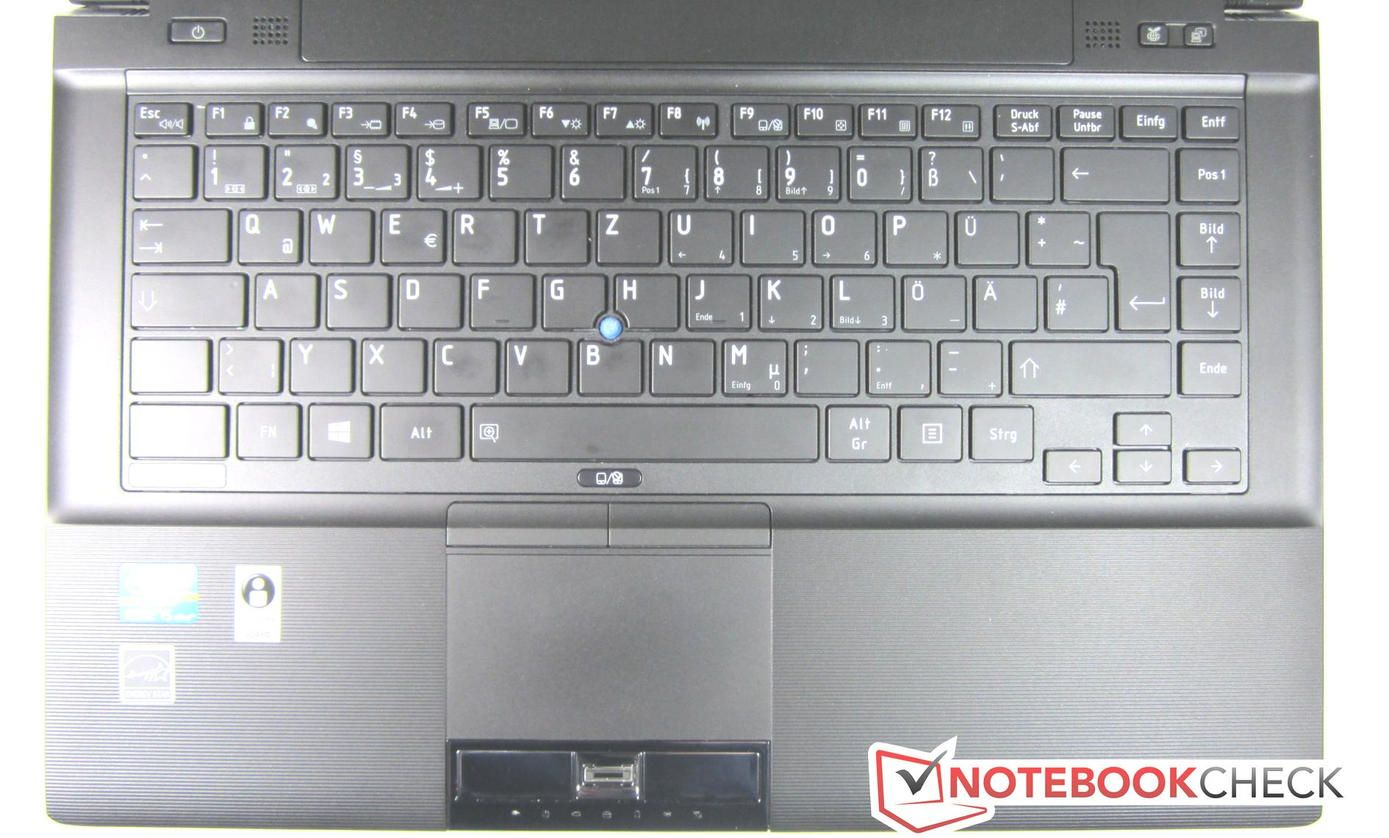0: (842, 140, 910, 199)
1: (198, 139, 263, 197)
2: (269, 138, 335, 198)
3: (339, 139, 407, 196)
4: (412, 139, 478, 197)
5: (484, 140, 550, 197)
6: (555, 139, 622, 198)
7: (629, 139, 695, 198)
8: (700, 140, 766, 198)
9: (771, 140, 839, 198)
a: (250, 268, 315, 326)
accent: (986, 142, 1051, 198)
ae: (969, 270, 1036, 329)
alt-left: (375, 398, 462, 458)
altgr-right: (822, 398, 891, 459)
b: (572, 334, 641, 393)
c: (429, 333, 496, 393)
caret: (128, 138, 190, 196)
comma: (790, 333, 856, 393)
d: (392, 268, 459, 327)
del: (1058, 142, 1167, 198)
e: (375, 202, 444, 262)
enter: (1094, 204, 1169, 329)
f: (464, 268, 531, 327)
g: (537, 268, 602, 326)
h: (609, 269, 676, 326)
hash: (1041, 270, 1105, 328)
i: (736, 204, 802, 262)
j: (681, 268, 747, 328)
k: (754, 268, 820, 328)
keyboard: (89, 66, 1278, 509)
l: (826, 269, 892, 329)
less: (212, 332, 279, 391)
m: (716, 333, 785, 394)
minus: (932, 334, 999, 393)
n: (644, 333, 711, 393)
o: (807, 205, 873, 263)
oe: (897, 270, 963, 329)
p: (878, 204, 945, 263)
plus: (1022, 204, 1088, 264)
point: (862, 334, 930, 393)
q: (232, 203, 300, 262)
r: (448, 203, 514, 262)
s: (320, 268, 386, 327)
shift-left: (125, 332, 206, 390)
shift-lock: (125, 266, 243, 325)
shift-right: (1004, 333, 1170, 393)
space: (50, 68, 125, 521), (465, 397, 816, 459)
ss: (914, 141, 981, 199)
strg-left: (123, 397, 224, 456)
strg-right: (964, 399, 1032, 459)
t: (520, 204, 586, 262)
tab: (126, 201, 226, 261)
u: (663, 204, 730, 264)
ue: (950, 205, 1017, 264)
v: (500, 333, 567, 393)
w: (304, 202, 369, 262)
x: (356, 333, 423, 392)
y: (284, 332, 351, 391)
z: (592, 204, 658, 263)
